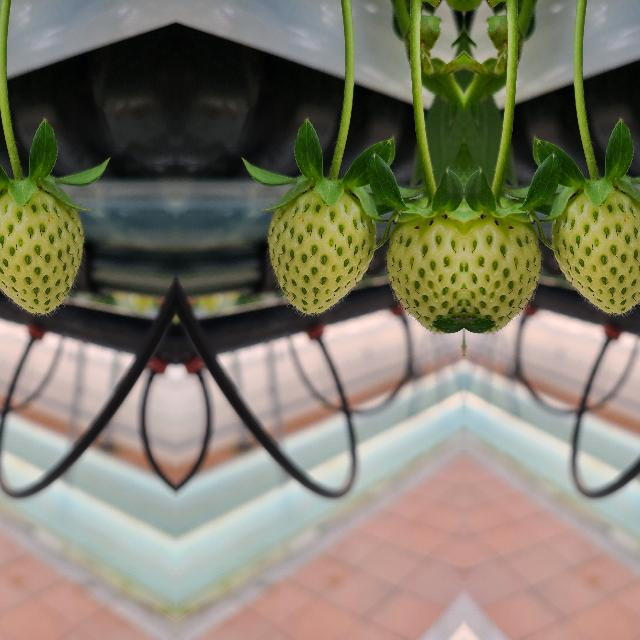Health_25: (267, 188, 375, 312), (551, 187, 640, 312), (0, 187, 83, 312), (386, 208, 462, 332), (464, 208, 540, 332)
